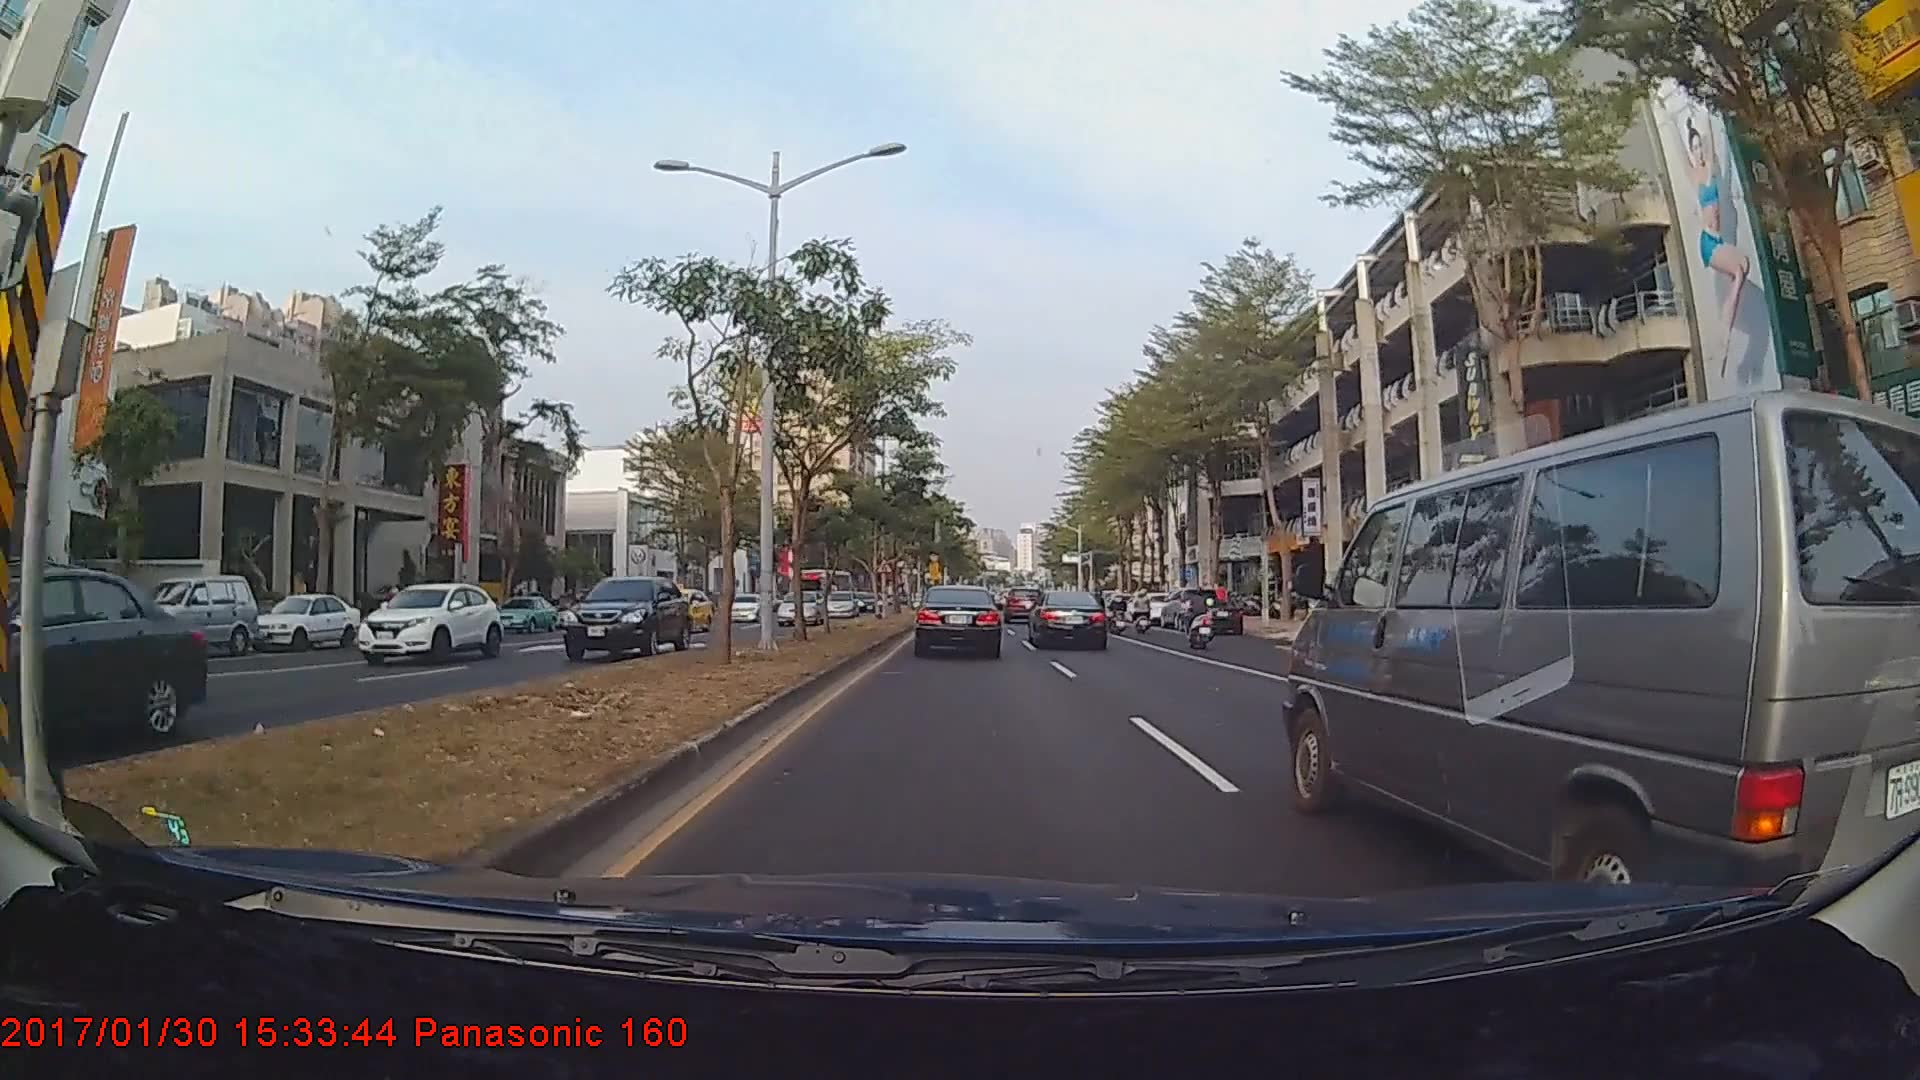rider: (1181, 584, 1218, 652), (1130, 588, 1158, 640)
vehicle: (1278, 403, 1896, 906), (0, 565, 204, 749), (351, 580, 502, 668), (559, 574, 691, 662), (128, 574, 257, 656), (916, 583, 1001, 657), (1028, 588, 1109, 650), (642, 587, 712, 632), (1172, 598, 1241, 638), (795, 567, 853, 611), (779, 589, 828, 628), (718, 592, 767, 622), (1005, 586, 1043, 621), (823, 588, 861, 618)
